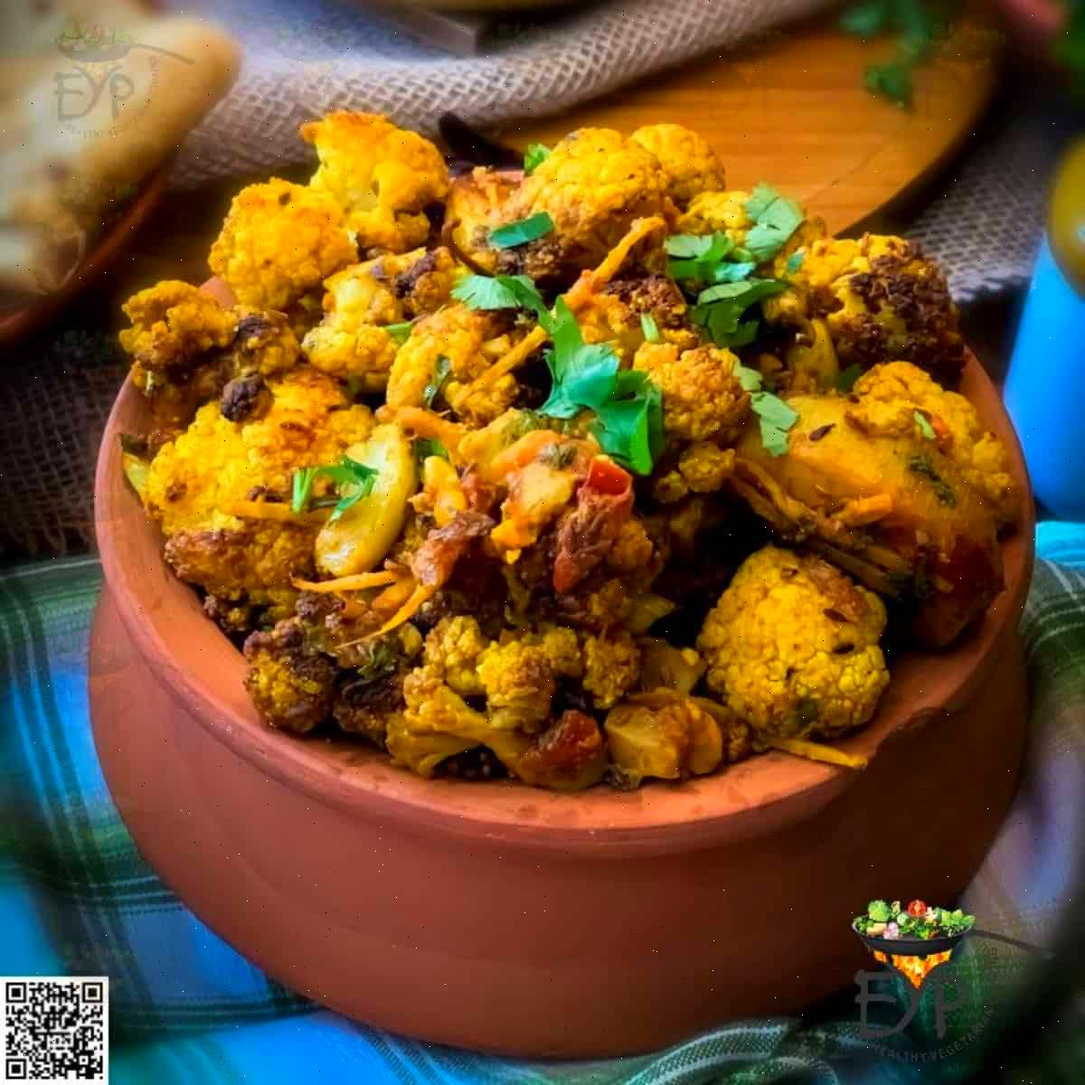aloo gobhi: (158, 134, 999, 794)
